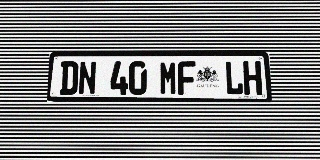0: (129, 61, 147, 95)
4: (110, 61, 128, 95)
D: (60, 61, 79, 95)
F: (178, 61, 196, 95)
H: (243, 61, 262, 95)
L: (225, 61, 244, 95)
M: (159, 61, 177, 95)
N: (78, 61, 97, 95)
